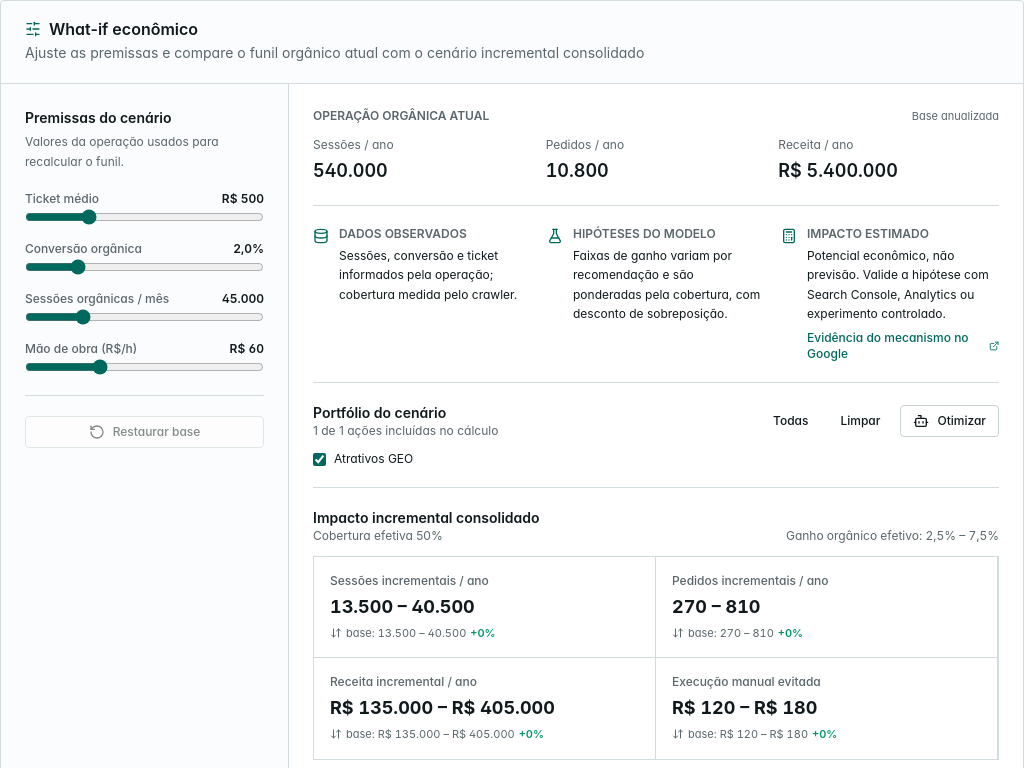
Test: WhatIfPanel › restaura a base ao clicar em restaurar
Expected: the button "Restaurar base" is disabled, [25,416,264,448]
Set the slider labelled "Ticket médio" to "1000": (144, 217) [25,213,264,221]
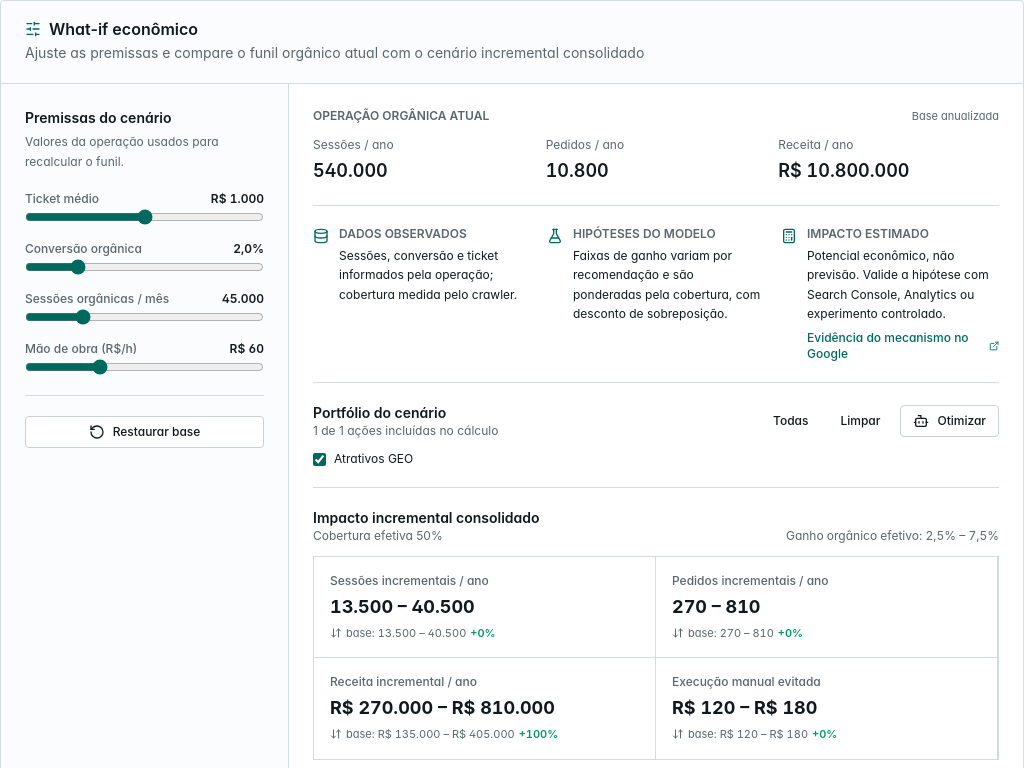
Result: the button "Restaurar base" is enabled
Click the button "Restaurar base": (144, 432) [25,416,264,448]
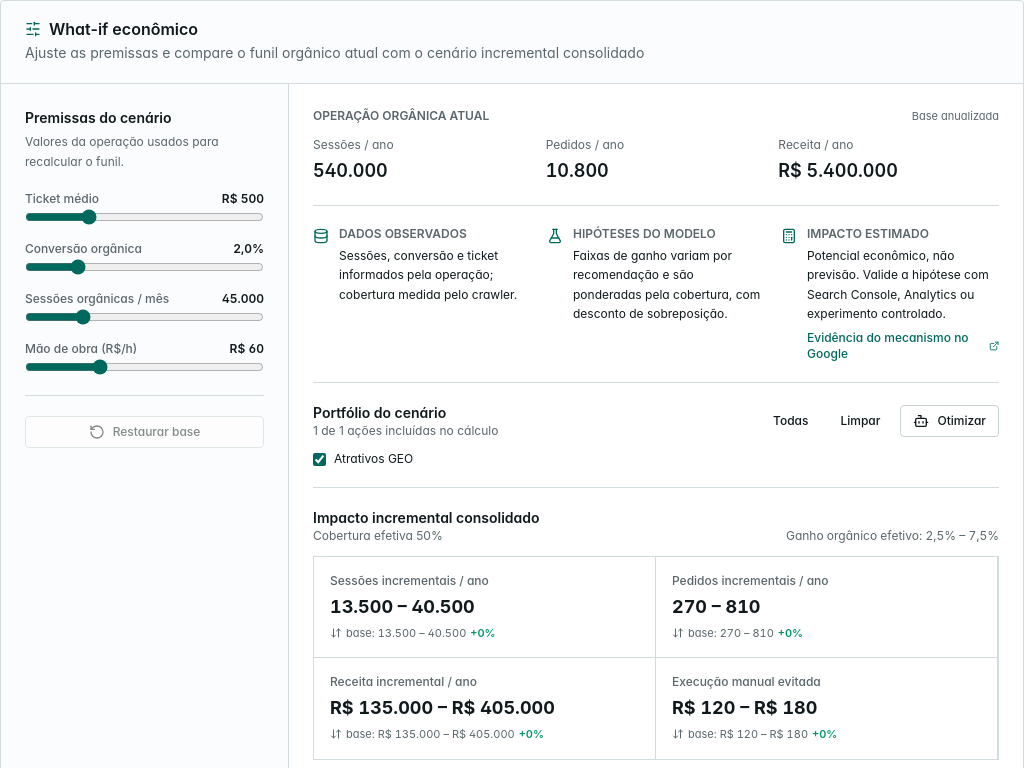
Result: the text "R$ 135.000 – R$ 405.000" is shown at [330,697,555,718]
